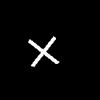single_crochet: (29, 37, 58, 65)
